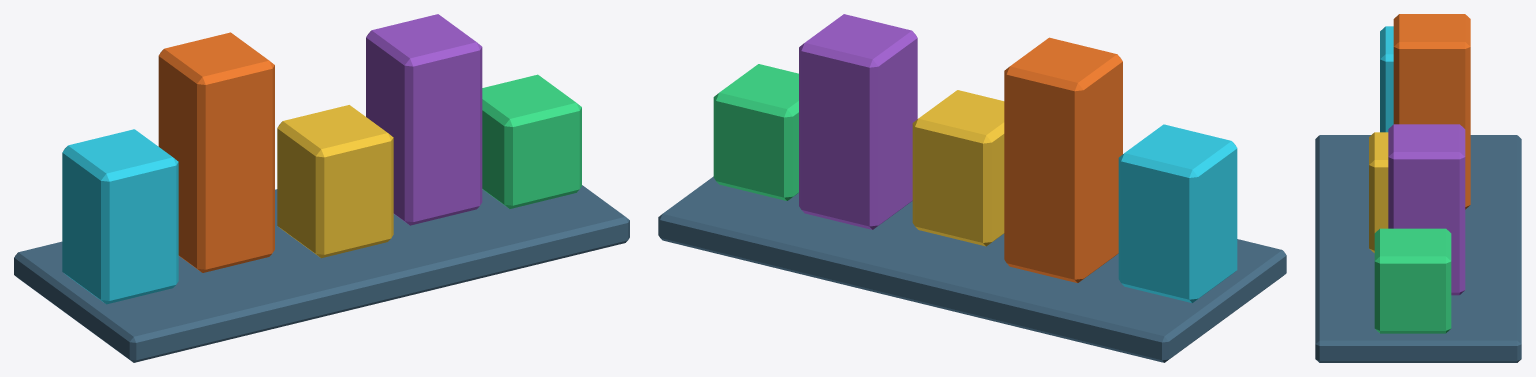
The model's file is block_city.glb.
3 renders of one model, left to right at view 1: azimuth 30°, elevation 25°; view 2: azimuth 150°, elevation 25°; view 3: azimuth 270°, elevation 25°, orthographic. The views are drawn at different scales.
Parts seen in each view (by area): view 1: block_city; view 2: block_city; view 3: block_city.
Part boxes in pixels (left/top/right/bottom): block_city: left=14, top=14, right=629, bottom=362; block_city: left=658, top=14, right=1286, bottom=362; block_city: left=1315, top=14, right=1521, bottom=362.
Size of the model in its own units: 3.6 by 1.54 by 1.5.
